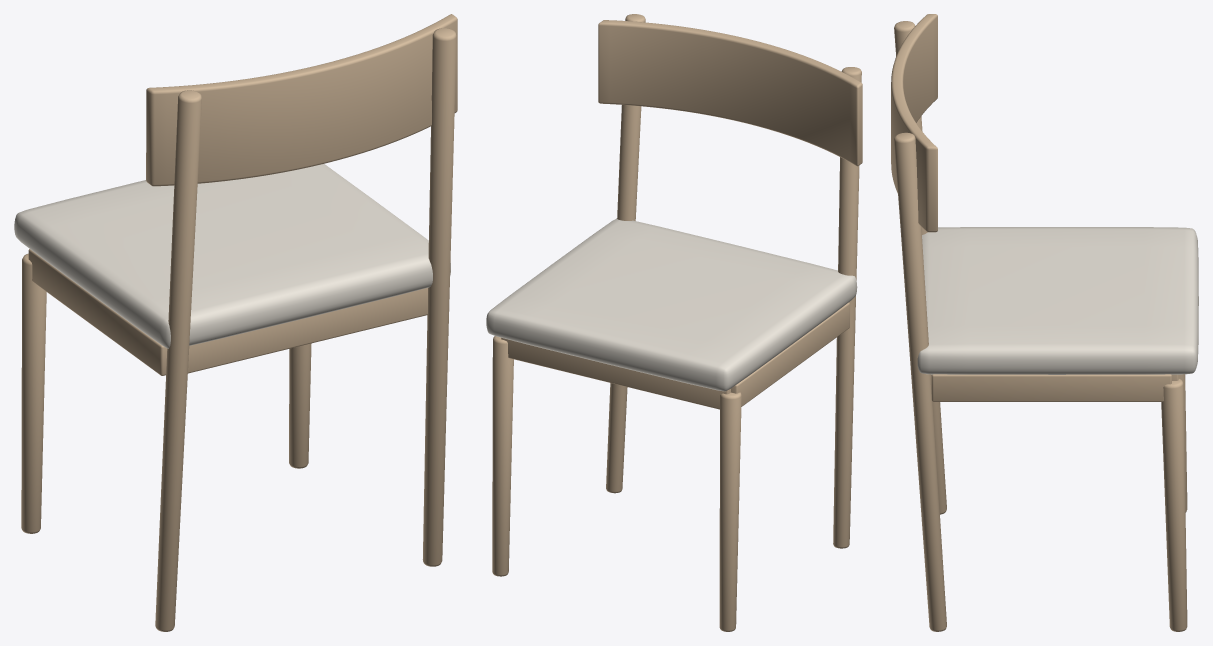
3 views of the same model, side by side, from view 1: azimuth 30°, elevation 25°; view 2: azimuth 150°, elevation 25°; view 3: azimuth 270°, elevation 25° (orthographic). The views are drawn at different scales.
Visible parts, largest first — view 1: dining-chair-01; view 2: dining-chair-01; view 3: dining-chair-01.
Part boxes in pixels (x1,y1,x2,y2): dining-chair-01: (14,14,457,631); dining-chair-01: (486,14,862,631); dining-chair-01: (891,14,1198,631).
Bounding box in the file's own units: 0.47 × 0.8012 × 0.4548.
